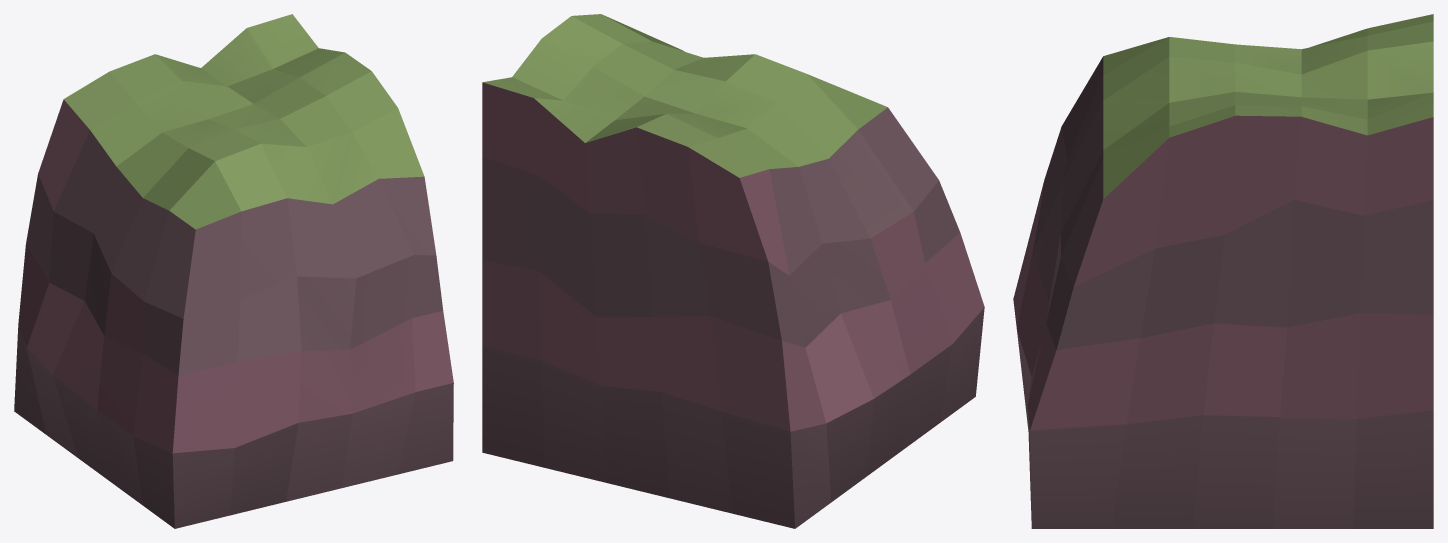
File: roca_esquina_2.glb
The picture shows the model from 3 angles, left to right: view 1: azimuth 30°, elevation 25°; view 2: azimuth 150°, elevation 25°; view 3: azimuth 270°, elevation 25°; orthographic projection. The views are drawn at different scales.
Parts seen in each view (by area): view 1: propforge-cuartos-roca_esquina; view 2: propforge-cuartos-roca_esquina; view 3: propforge-cuartos-roca_esquina.
Part boxes in pixels (<box>): propforge-cuartos-roca_esquina: <box>14,14,453,528</box>; propforge-cuartos-roca_esquina: <box>482,14,984,528</box>; propforge-cuartos-roca_esquina: <box>1013,14,1433,528</box>.
Size of the model in its own units: 0.9513 by 1.02 by 0.9414.
